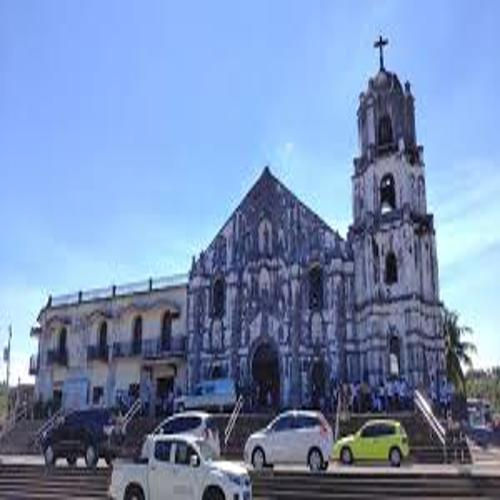Daraga Church: (188, 25, 449, 421)
